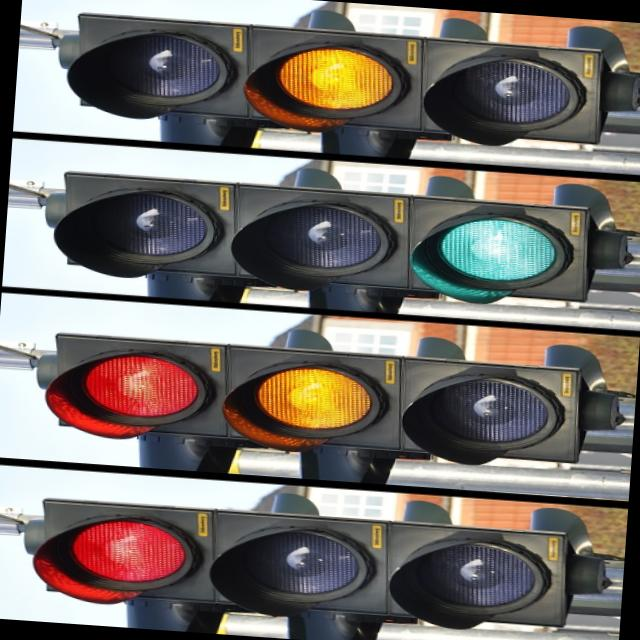green-lights: (398, 199, 580, 295)
red-lights: (43, 0, 616, 157), (54, 340, 214, 427), (57, 509, 196, 593)
yellow-lights: (232, 348, 380, 448), (245, 42, 410, 128)
